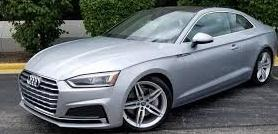Cars: (20, 9, 276, 130)
